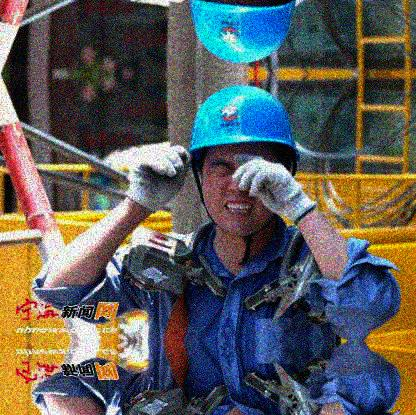helmet: (187, 84, 303, 245)
